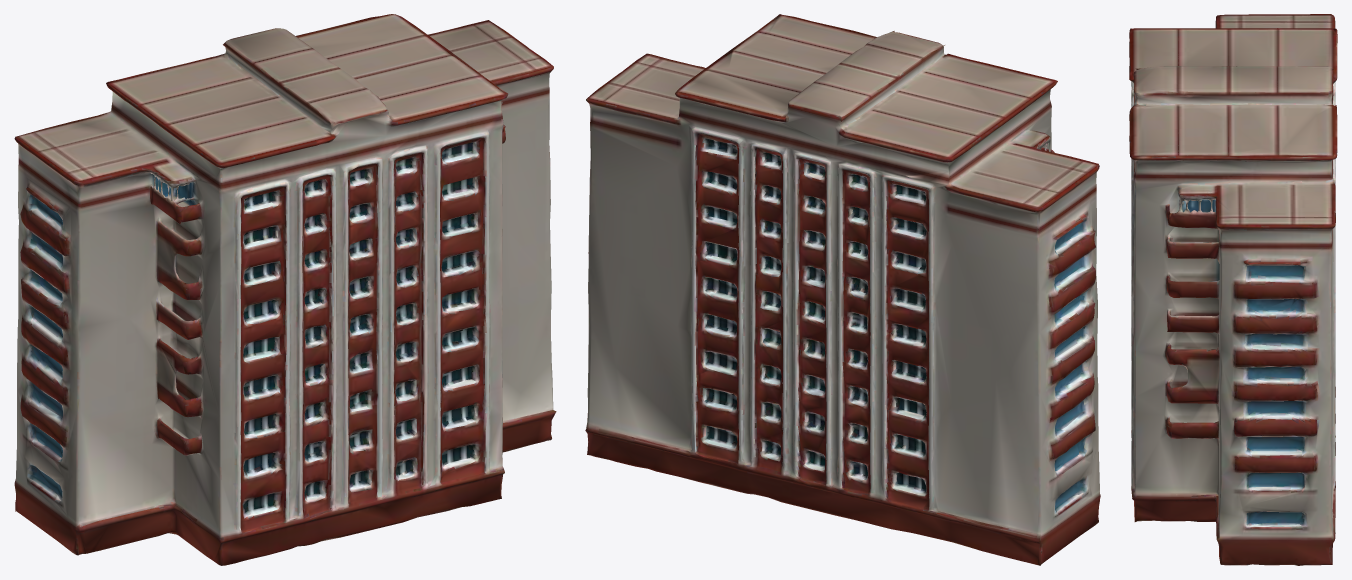
Rendered from apartment.glb.
3 renders of one model, left to right at view 1: azimuth 30°, elevation 25°; view 2: azimuth 150°, elevation 25°; view 3: azimuth 270°, elevation 25°, orthographic. The views are drawn at different scales.
Parts seen in each view (by area): view 1: tripo_node_3ddd319e-1ad9-40f4-aaa2-c45a1d75ed49; view 2: tripo_node_3ddd319e-1ad9-40f4-aaa2-c45a1d75ed49; view 3: tripo_node_3ddd319e-1ad9-40f4-aaa2-c45a1d75ed49.
Boxes of the visible parts, x1,y1,x2,y2 form: tripo_node_3ddd319e-1ad9-40f4-aaa2-c45a1d75ed49: (14,14,556,565); tripo_node_3ddd319e-1ad9-40f4-aaa2-c45a1d75ed49: (585,14,1100,565); tripo_node_3ddd319e-1ad9-40f4-aaa2-c45a1d75ed49: (1129,14,1337,565).
Bounding box in the file's own units: 0.9808 × 0.81 × 0.3998.
Materials: 1 (1 with a texture image).
